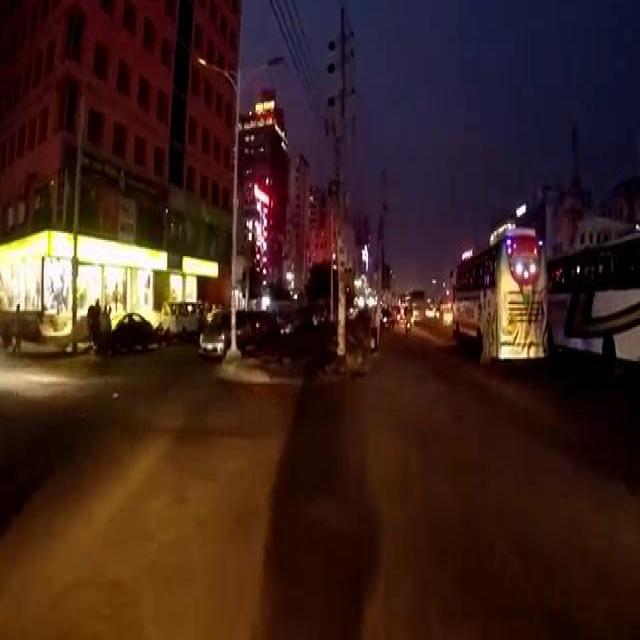10: (403, 318, 411, 336)
19: (158, 298, 200, 335)
5: (198, 306, 248, 356), (110, 308, 152, 346)
Truck: (449, 227, 546, 360), (547, 229, 639, 361), (406, 287, 426, 321)
